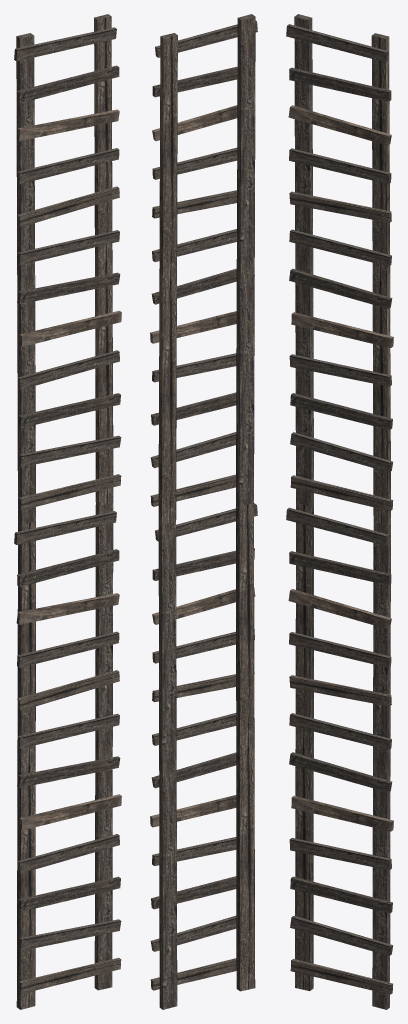
Rendered from WLad03.glb.
The picture shows the model from 3 angles, left to right: view 1: azimuth 30°, elevation 25°; view 2: azimuth 210°, elevation 25°; view 3: azimuth 330°, elevation 25°; orthographic projection.
Parts seen in each view (by area): view 1: _WLad03; view 2: _WLad03; view 3: _WLad03.
Part boxes in pixels (bbox=[...]): _WLad03: bbox=[14, 14, 121, 1009]; _WLad03: bbox=[150, 14, 257, 1009]; _WLad03: bbox=[286, 14, 393, 1009].
Size of the model in its own units: 0.9102 by 8.01 by 0.0907.
Materials: 1 (1 with a texture image).
